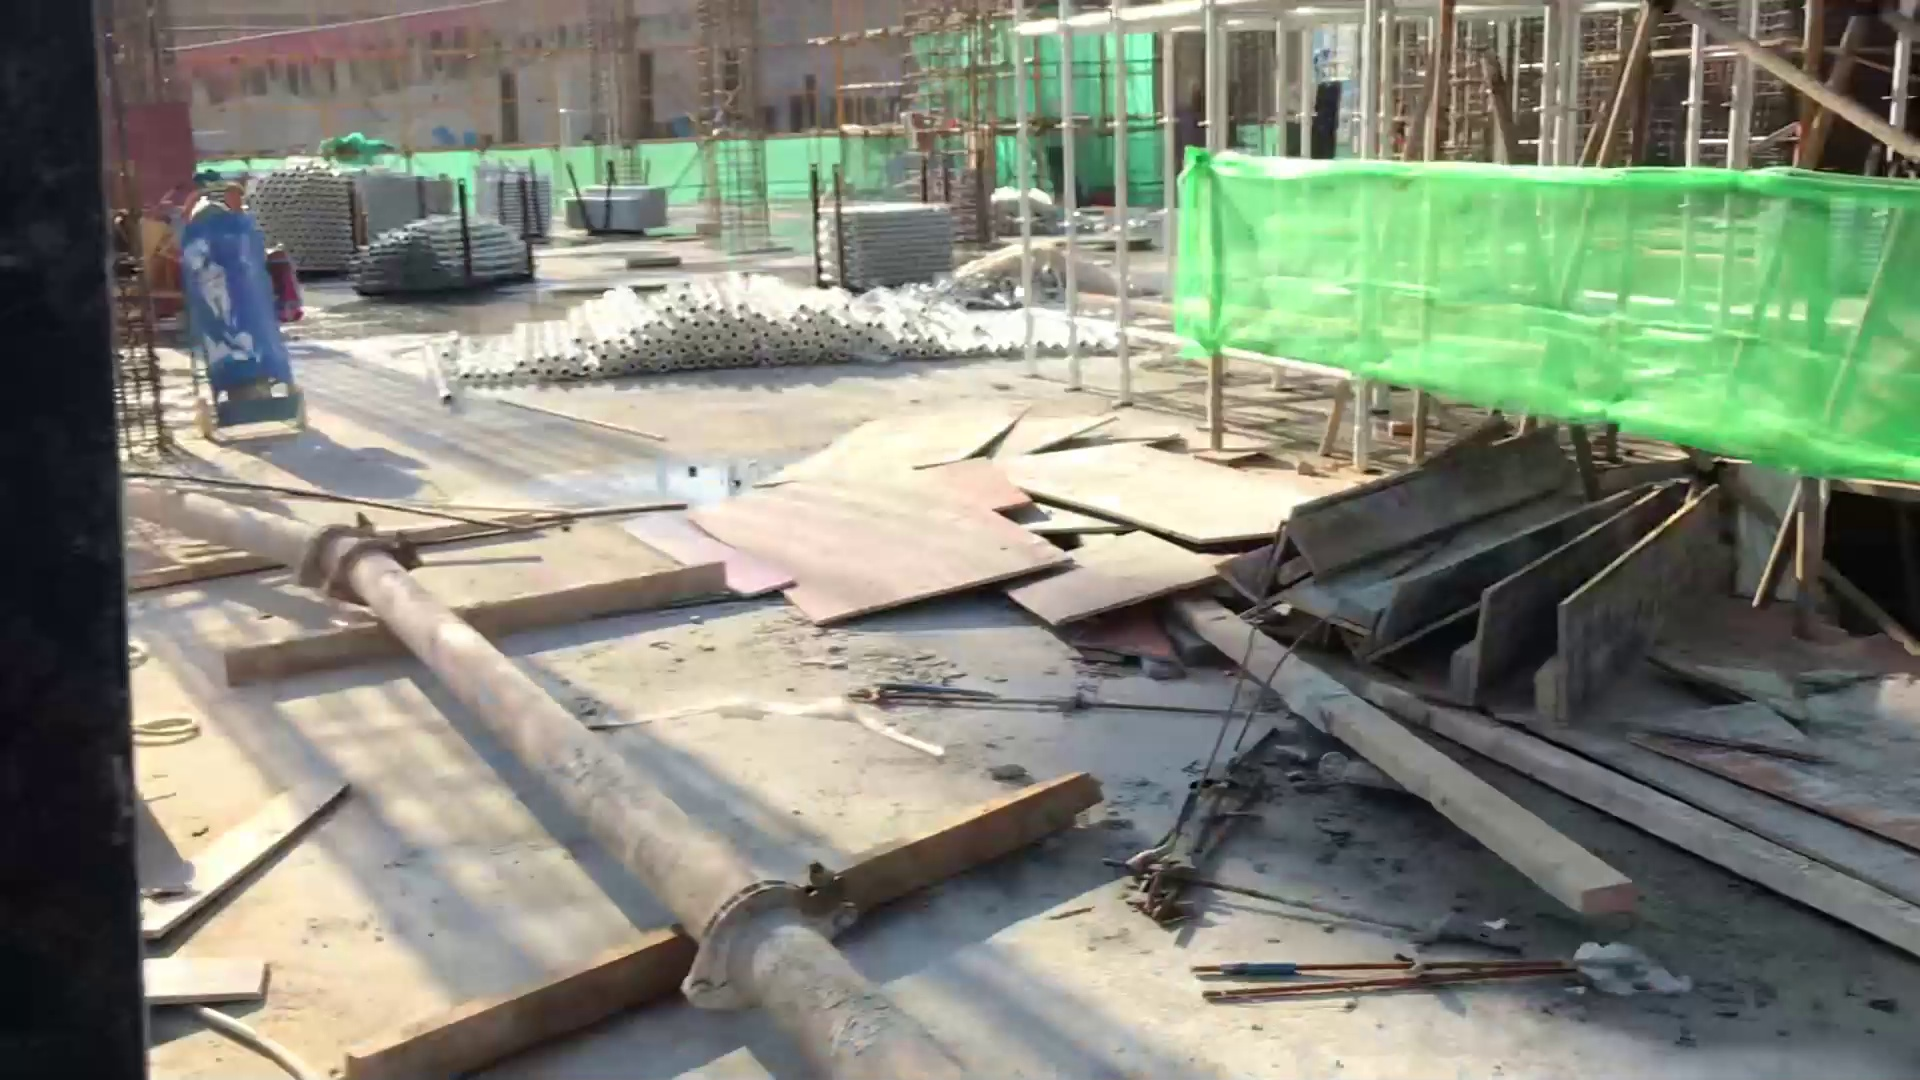scaffold: (243, 162, 460, 284), (357, 212, 538, 309), (810, 195, 965, 297), (555, 178, 679, 252), (467, 156, 555, 243)
